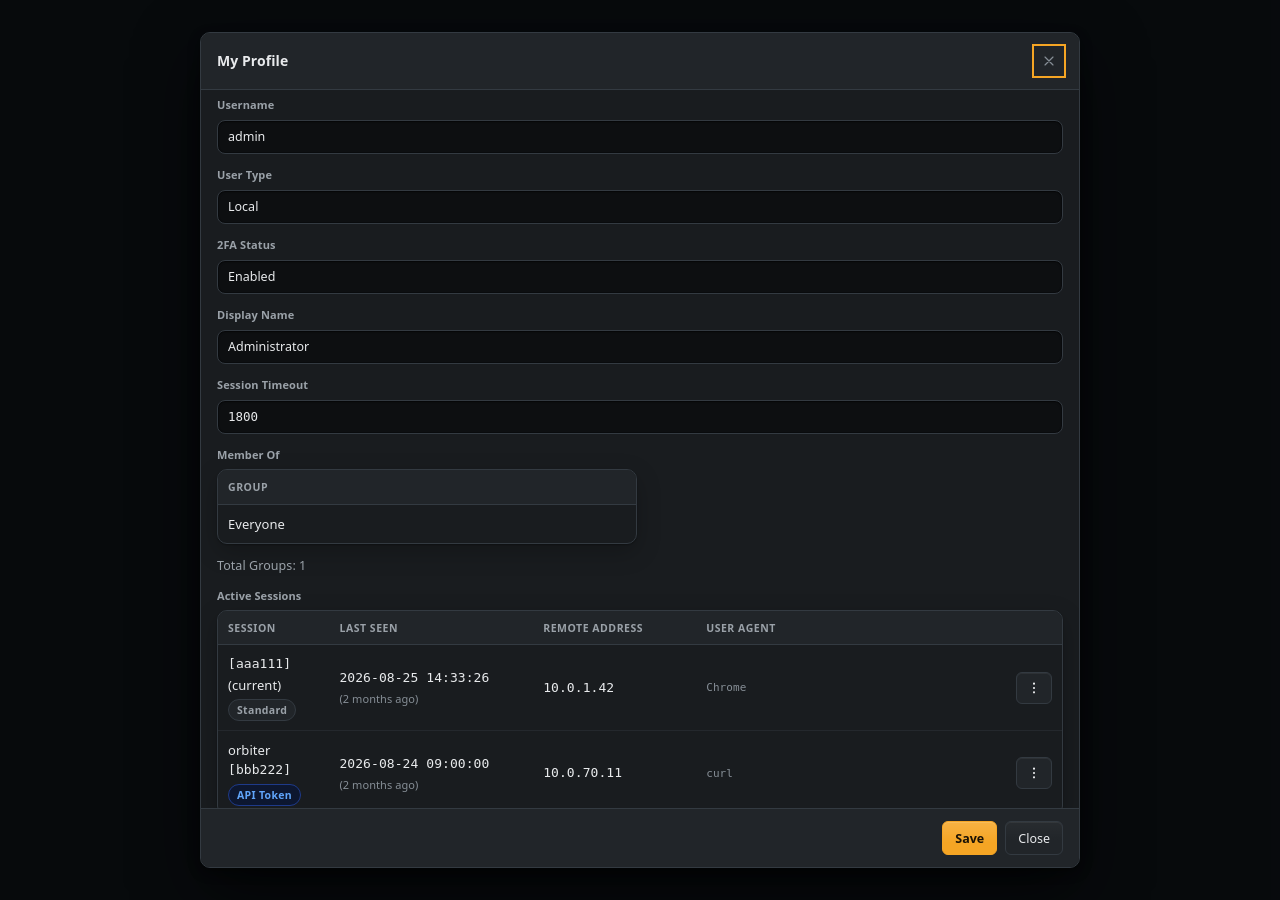
Test: My Profile: active sessions › it asks for confirmation with the literal text before deleting
Click the button named "Actions for bbb222" at [1034, 773], box [1017,758,1051,788]
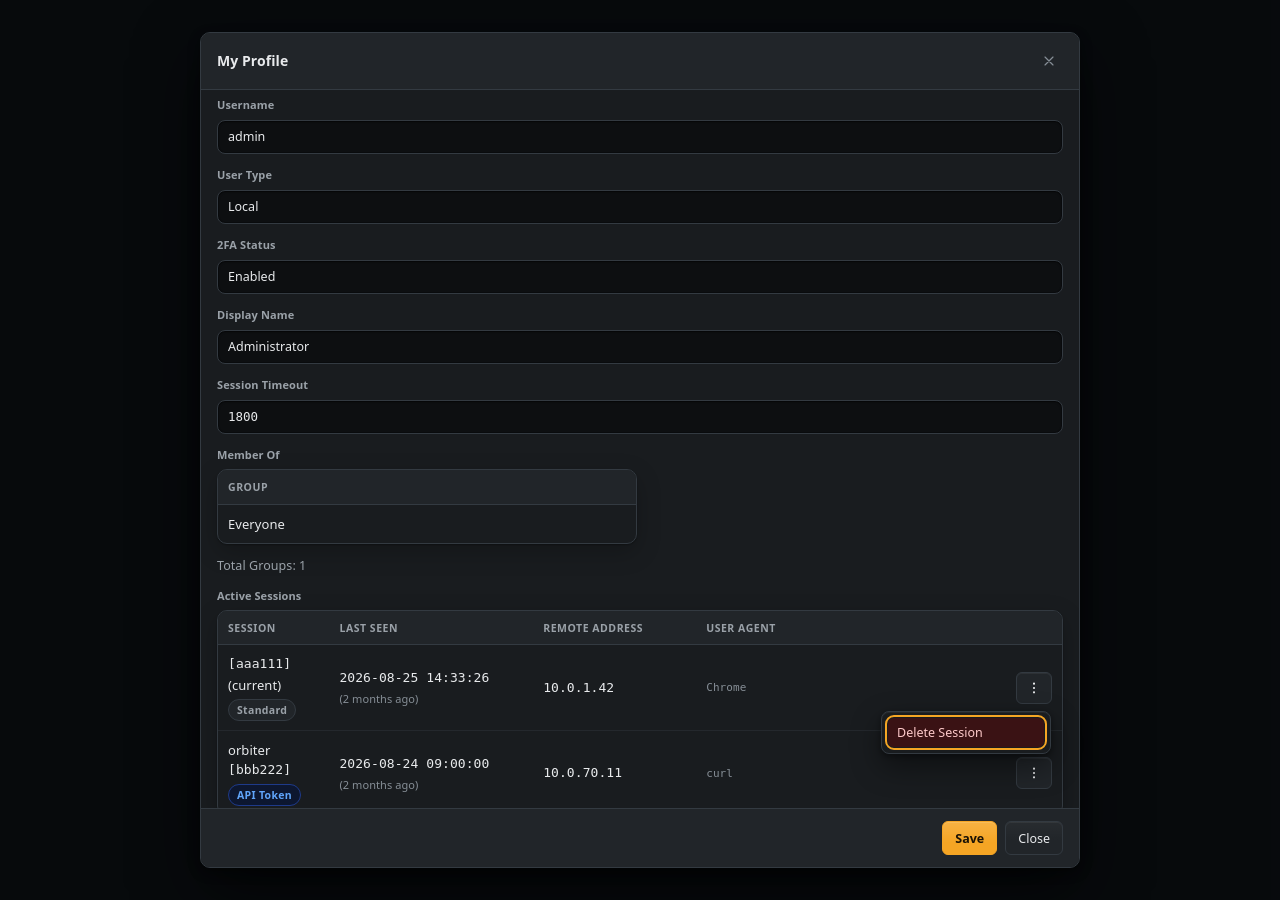
Click the menu item "Delete Session" at [966, 733], box [888,718,1044,747]
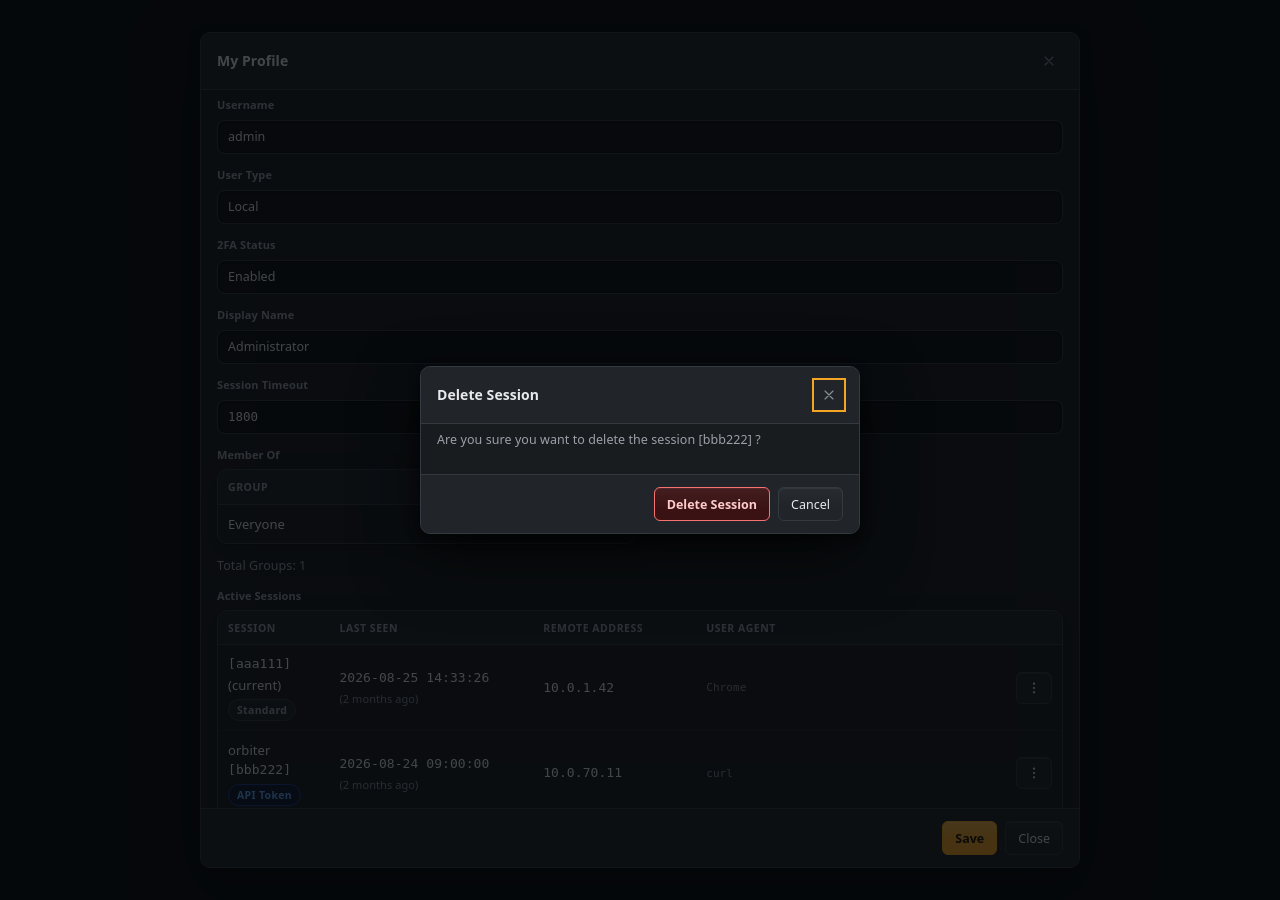
Check: the text "Are you sure you want to delete the session [bbb222] ?" is shown, box [437,431,761,448]
